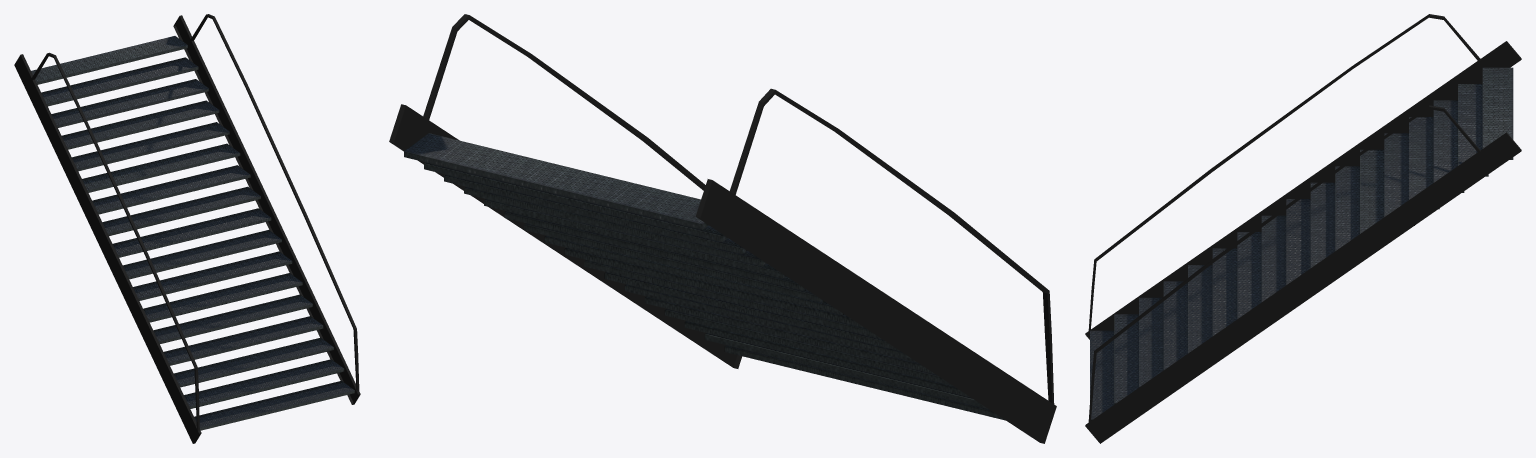
File: stairs.glb
3 renders of one model, left to right at view 1: azimuth 30°, elevation 25°; view 2: azimuth 150°, elevation 25°; view 3: azimuth 270°, elevation 25°, orthographic. The views are drawn at different scales.
Parts seen in each view (by area): view 1: Plane.001; view 2: Plane.001; view 3: Plane.001.
Part boxes in pixels (x1=…): Plane.001: x1=14, y1=14, x2=360, y2=443; Plane.001: x1=389, y1=14, x2=1056, y2=443; Plane.001: x1=1085, y1=14, x2=1521, y2=443.
Bounding box in the file's own units: 1.52 × 2.56 × 3.
Materials: 2 (1 with a texture image).
